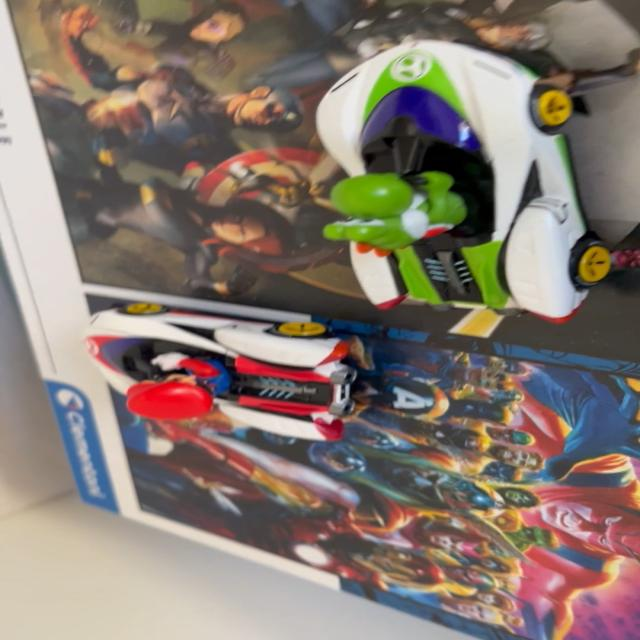mario: (53, 280, 400, 451)
yoshi: (280, 8, 638, 356)
